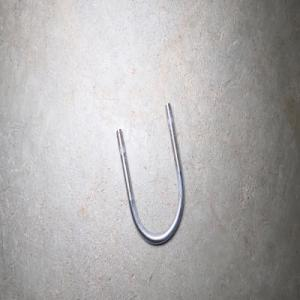ClampPart: (115, 101, 184, 246)
